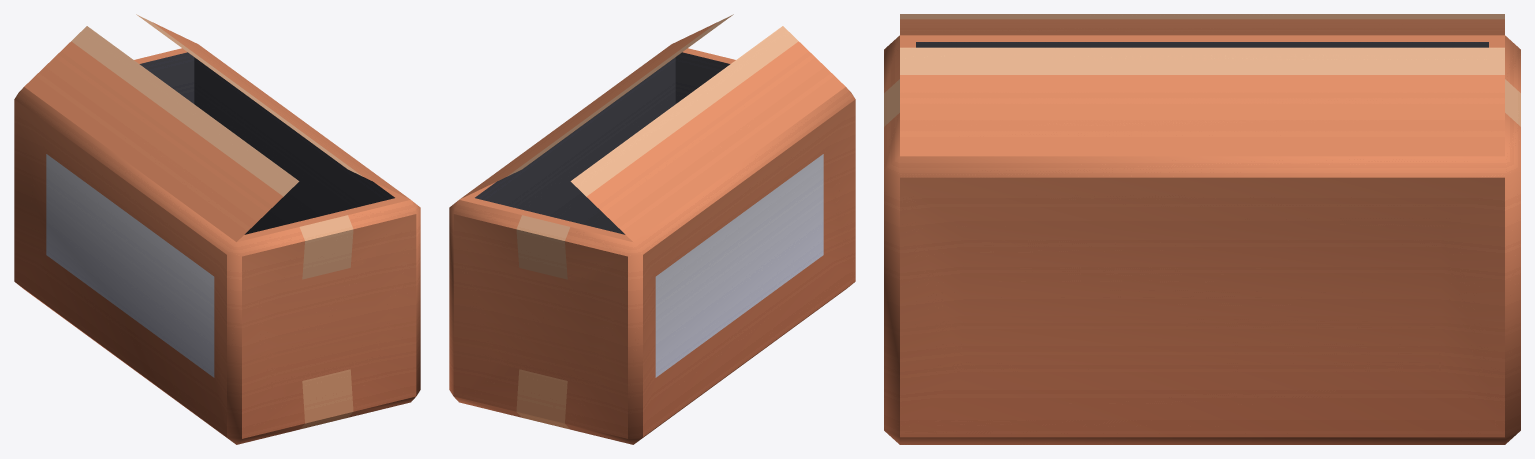
Rendered from box-large-open.glb.
3 views of the same model, side by side, from view 1: azimuth 30°, elevation 25°; view 2: azimuth 150°, elevation 25°; view 3: azimuth 270°, elevation 25° (orthographic). The views are drawn at different scales.
Parts seen in each view (by area): view 1: box-large-open; view 2: box-large-open; view 3: box-large-open.
Part boxes in pixels (x1=…): box-large-open: x1=14, y1=14, x2=420, y2=444; box-large-open: x1=449, y1=14, x2=855, y2=444; box-large-open: x1=884, y1=14, x2=1520, y2=444.
Size of the model in its own units: 0.25 by 0.3063 by 0.5.
1 material, 1 textured.
